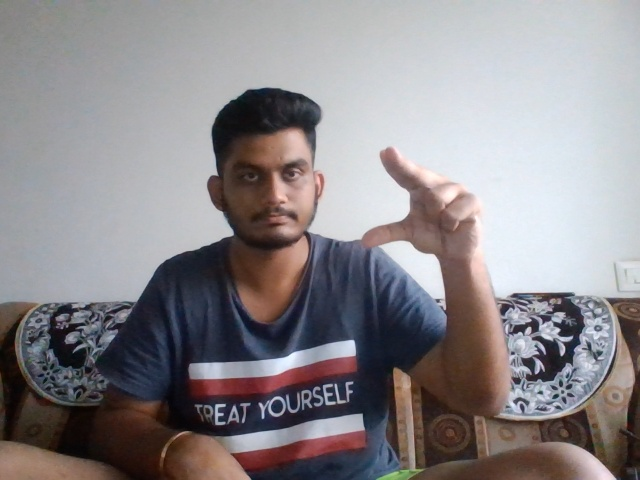No: (347, 144, 492, 273)
